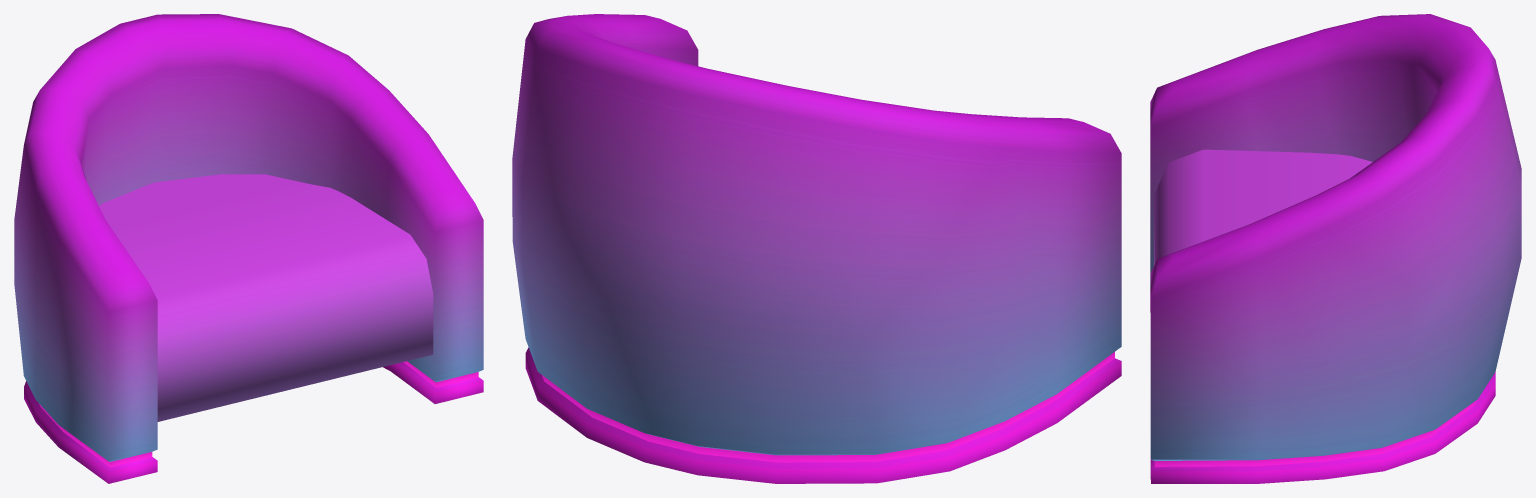
The model's file is armchair.gltf.
3 renders of one model, left to right at view 1: azimuth 30°, elevation 25°; view 2: azimuth 150°, elevation 25°; view 3: azimuth 270°, elevation 25°, orthographic. The views are drawn at different scales.
Visible parts, largest first — view 1: ArmchairD; view 2: ArmchairD; view 3: ArmchairD.
Boxes of the visible parts, bbox=[...] form: ArmchairD: bbox=[14, 14, 483, 483]; ArmchairD: bbox=[512, 14, 1121, 483]; ArmchairD: bbox=[1150, 14, 1521, 483].
Size of what is drawn, in the model's own units: 1.35 by 1.04 by 1.07.
Materials: 2 (2 with a texture image).
